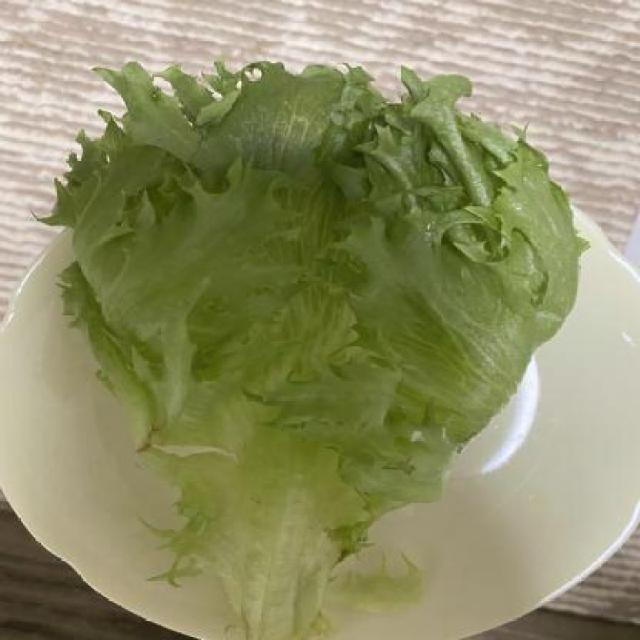Lettuce: (46, 47, 584, 640)
